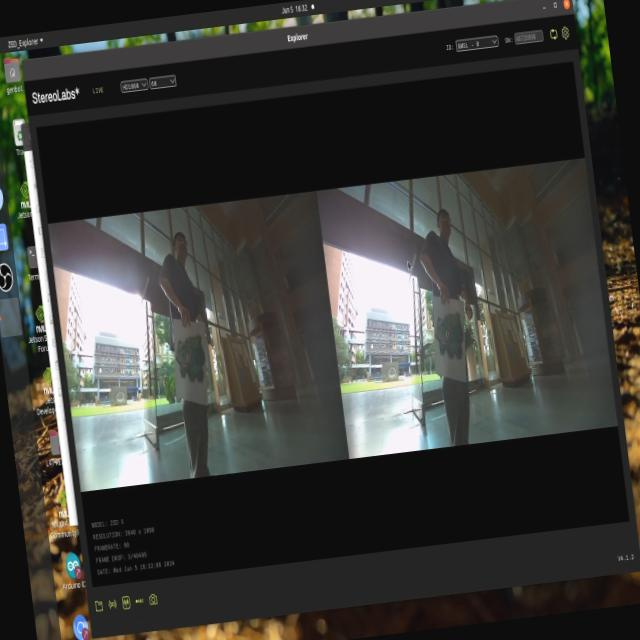green: (426, 296, 466, 356), (173, 328, 209, 385)
